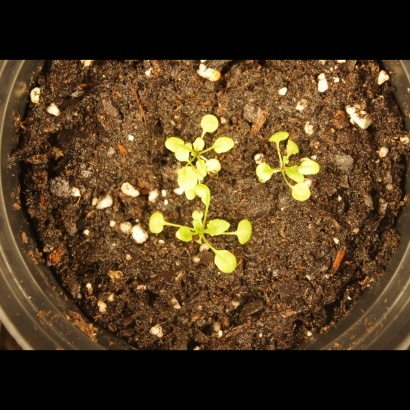leaf: (214, 249, 241, 279), (164, 131, 190, 162), (233, 214, 257, 244), (176, 165, 199, 195), (145, 211, 169, 239), (194, 182, 218, 209), (206, 218, 231, 241), (170, 226, 193, 249), (198, 113, 221, 136), (189, 132, 212, 155), (205, 157, 228, 180), (212, 134, 235, 157), (267, 122, 290, 145), (254, 161, 277, 184), (289, 181, 312, 204), (298, 156, 321, 179), (283, 136, 306, 159), (284, 161, 307, 184), (186, 207, 209, 230)
